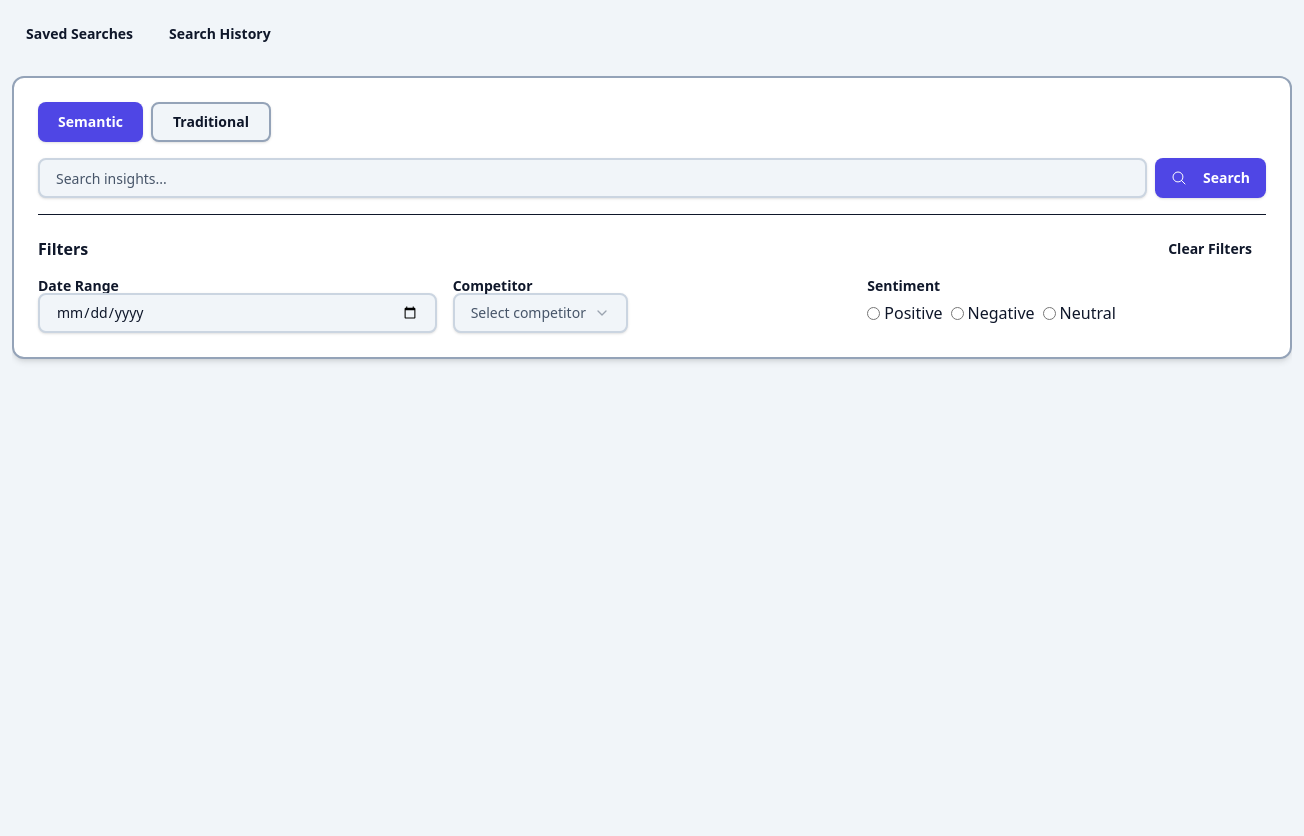
it: Search Page - Integration Tests › should display pagination when results exceed page size
Type "test query" into the field with placeholder "Search insights..." at (593, 178), box [38,158,1147,198]
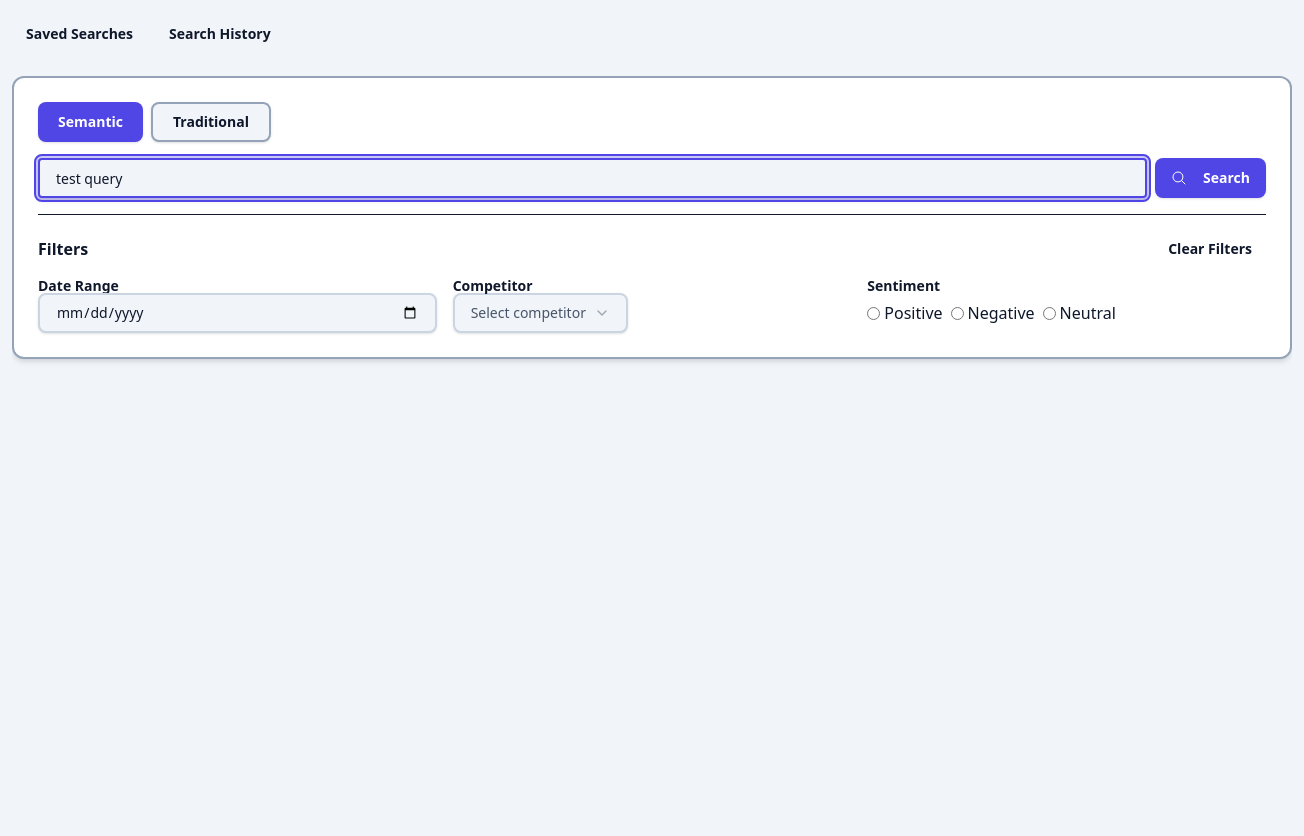
Click the button "Search" at (1211, 178), box [1155,158,1266,198]
(page scrolled)
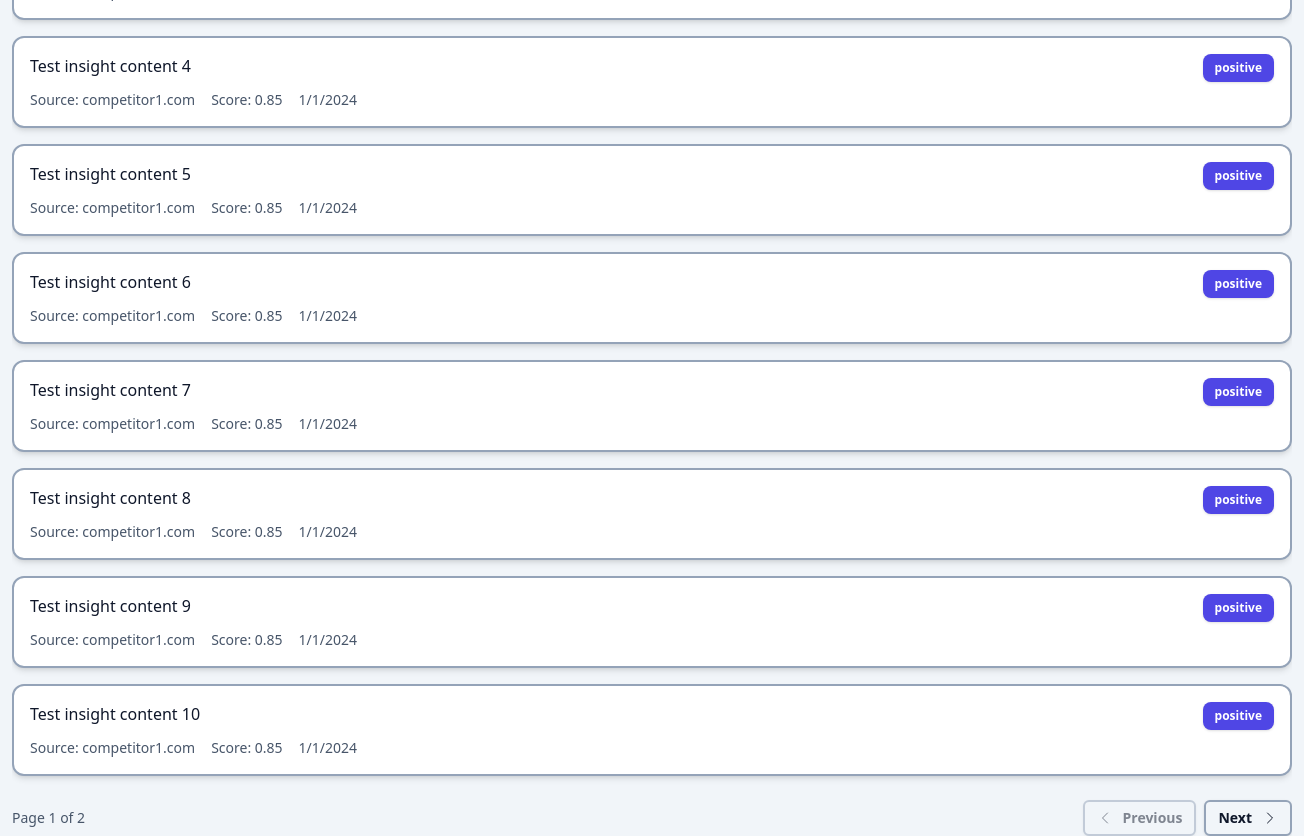
Check: the text "Page 1 of 2" is shown, box [12,808,85,828]
Check: the button "Next" is shown, box [1204,800,1292,835]
